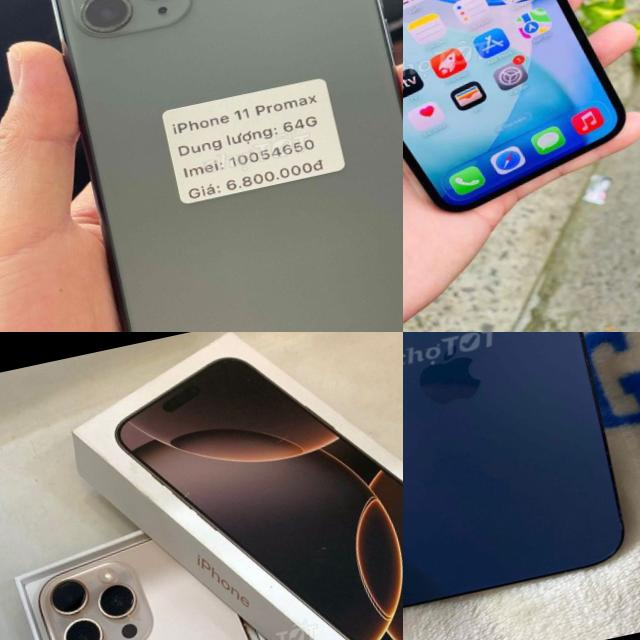gen_11: (29, 0, 403, 332)
gen_12_13: (403, 332, 640, 634), (403, 0, 640, 243)
gen_16: (31, 508, 367, 640)
